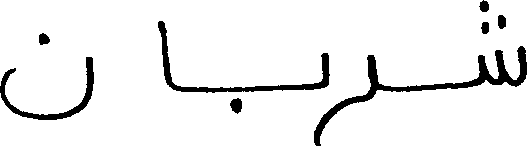ا: (156, 19, 176, 92)
ب: (225, 50, 329, 115)
ر: (328, 53, 378, 122)
ش: (477, 0, 525, 88)
ن: (0, 31, 95, 120)
